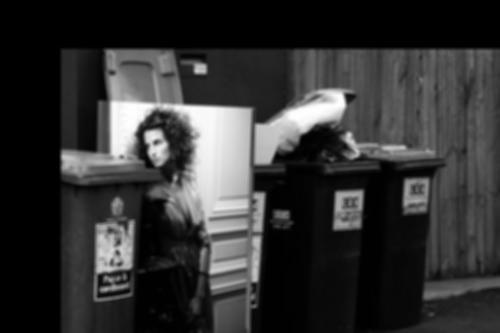Bote de Basura: (240, 125, 399, 333), (333, 131, 433, 324), (61, 140, 154, 333), (217, 161, 295, 333)
